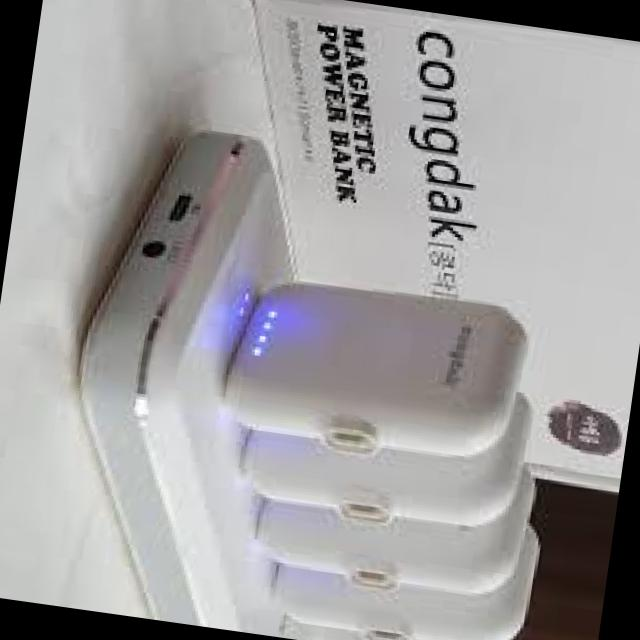portable-charger: (40, 105, 369, 640)
